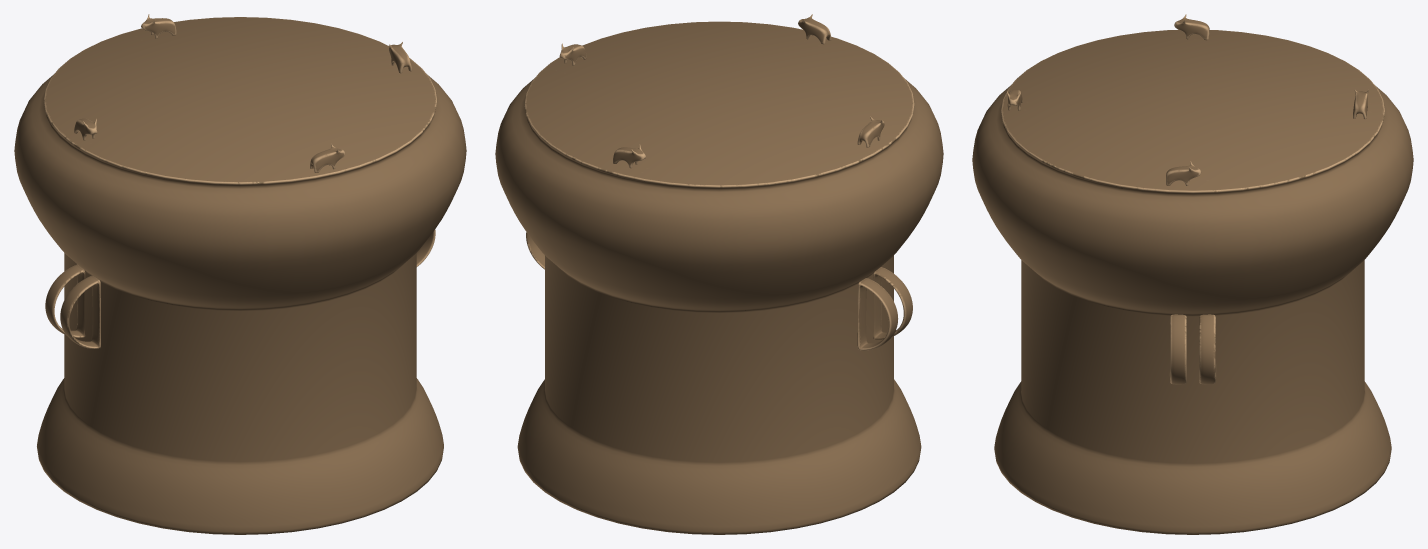
The model's file is vanlang15c.glb.
3 views of the same model, side by side, from view 1: azimuth 30°, elevation 25°; view 2: azimuth 150°, elevation 25°; view 3: azimuth 270°, elevation 25° (orthographic). The views are drawn at different scales.
Visible parts, largest first — view 1: Sphere001_trong dong_0; view 2: Sphere001_trong dong_0; view 3: Sphere001_trong dong_0.
Boxes of the visible parts, bbox=[...] form: Sphere001_trong dong_0: bbox=[14, 14, 466, 534]; Sphere001_trong dong_0: bbox=[495, 14, 943, 534]; Sphere001_trong dong_0: bbox=[972, 14, 1413, 534].
Bounding box in the file's own units: 1.67 × 1.51 × 1.67.
Materials: 1 (1 with a texture image).
